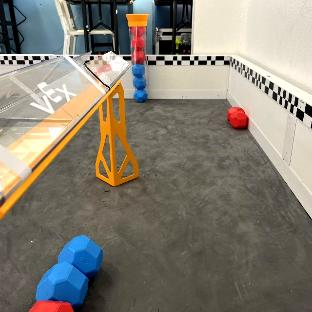Goal: (0, 51, 136, 211)
V5_BLUE: (35, 236, 101, 304), (133, 64, 147, 101)
V5_RED: (127, 13, 148, 100), (131, 25, 145, 62), (30, 301, 72, 312), (228, 107, 248, 128), (133, 49, 144, 63)
